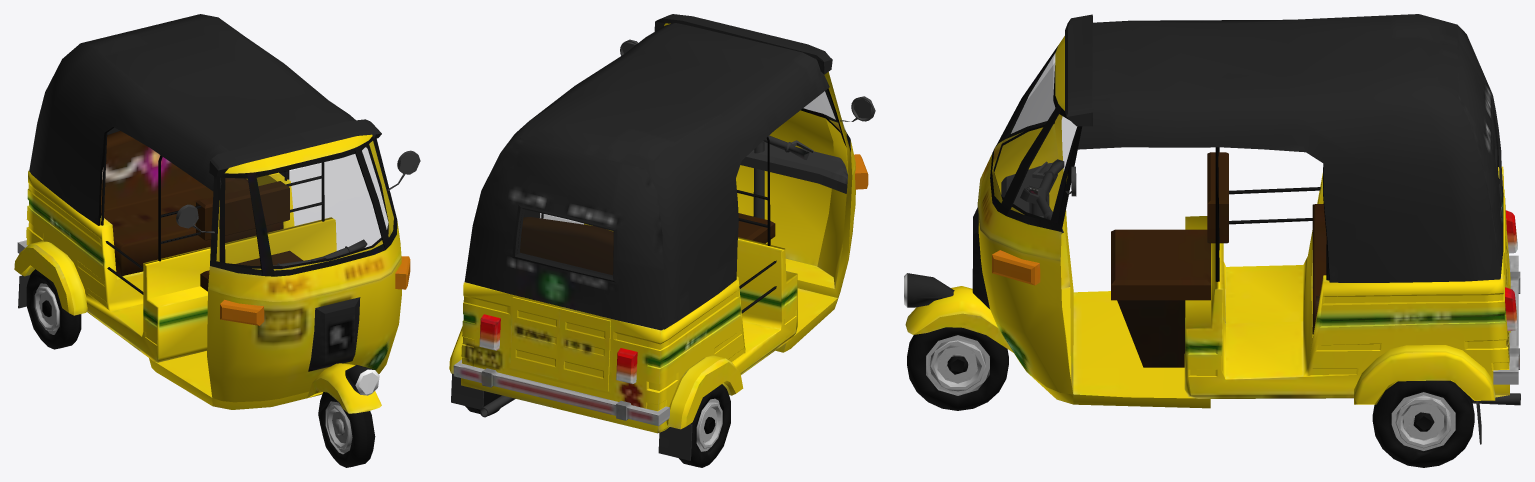
File: auto.glb
3 views of the same model, side by side, from view 1: azimuth 30°, elevation 25°; view 2: azimuth 150°, elevation 25°; view 3: azimuth 270°, elevation 25° (orthographic). The views are drawn at different scales.
Visible parts, largest first — view 1: persp5_lambert1_0, persp5_blinn1_0; view 2: persp5_lambert1_0, persp5_blinn1_0; view 3: persp5_lambert1_0, persp5_blinn1_0.
Boxes of the visible parts, x1=… form: persp5_lambert1_0: x1=14, y1=14, x2=420, y2=467; persp5_blinn1_0: x1=217, y1=141, x2=393, y2=270; persp5_lambert1_0: x1=449, y1=14, x2=875, y2=467; persp5_blinn1_0: x1=517, y1=43, x2=870, y2=276; persp5_lambert1_0: x1=904, y1=14, x2=1520, y2=467; persp5_blinn1_0: x1=992, y1=53, x2=1498, y2=222.
Bounding box in the file's own units: 1.5 × 1.74 × 2.72.
2 materials, 1 textured.
